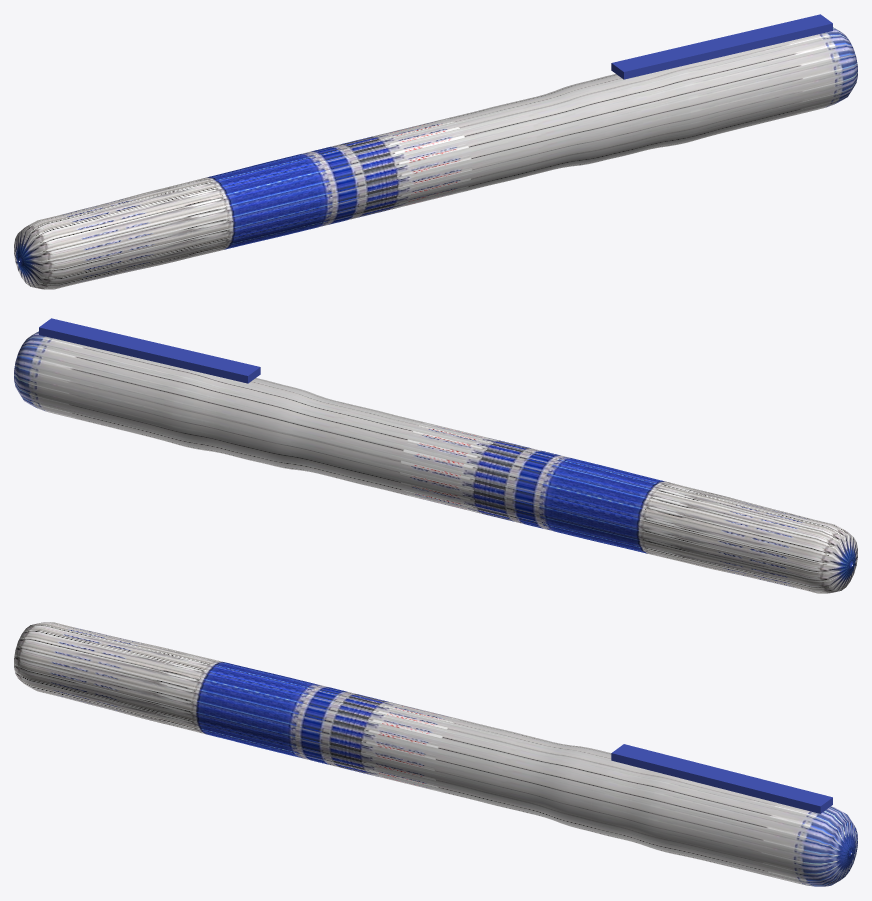
Rendered from megatop.glb.
3 views of the same model, one above another, from view 1: azimuth 30°, elevation 25°; view 2: azimuth 150°, elevation 25°; view 3: azimuth 330°, elevation 25° (orthographic).
Visible parts, largest first — view 1: megatop_barrel, megatop_clip; view 2: megatop_barrel, megatop_clip; view 3: megatop_barrel, megatop_clip.
Part boxes in pixels (x1,y1,x2,y2): megatop_barrel: [14, 27, 857, 289]; megatop_clip: [611, 14, 832, 79]; megatop_barrel: [14, 331, 857, 593]; megatop_clip: [39, 318, 260, 383]; megatop_barrel: [14, 622, 857, 886]; megatop_clip: [611, 744, 832, 813].
Size of the model in its own units: 0.15 by 0.0149 by 0.0132.
2 materials, 1 textured.
